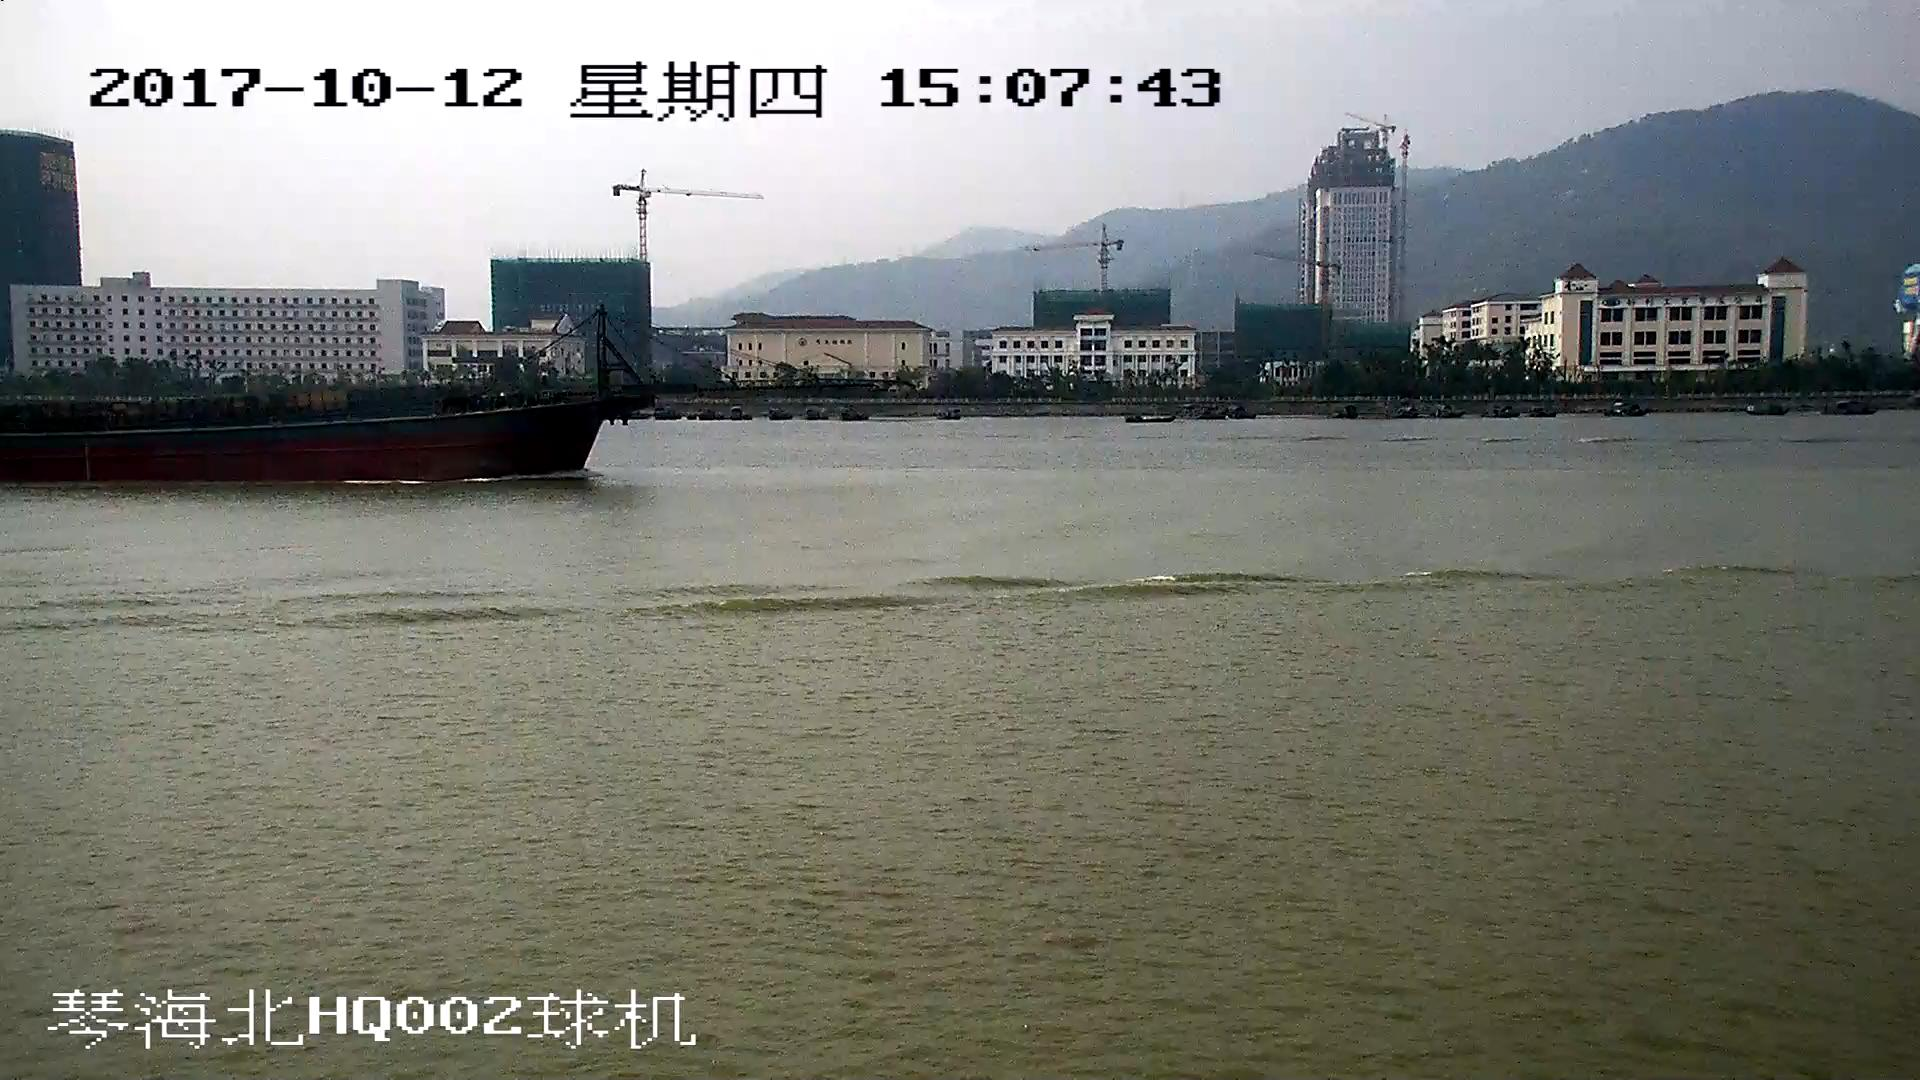bulk cargo carrier: (1, 310, 648, 485)
